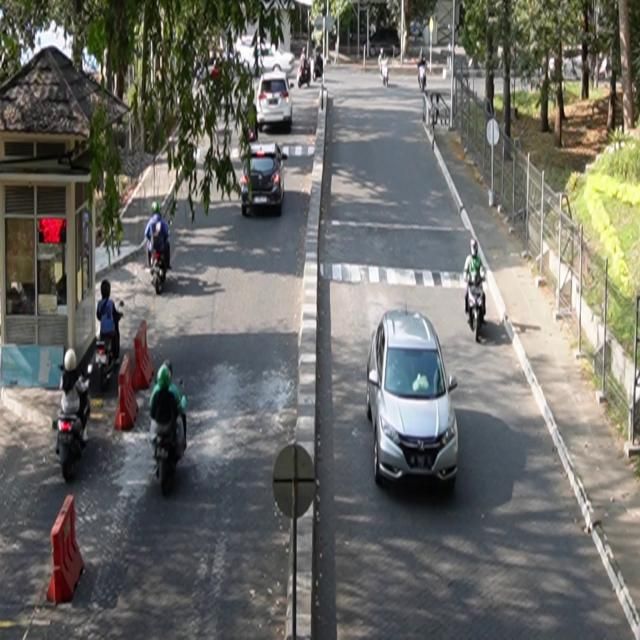car: (367, 305, 460, 492), (241, 142, 288, 218), (256, 72, 294, 132)
